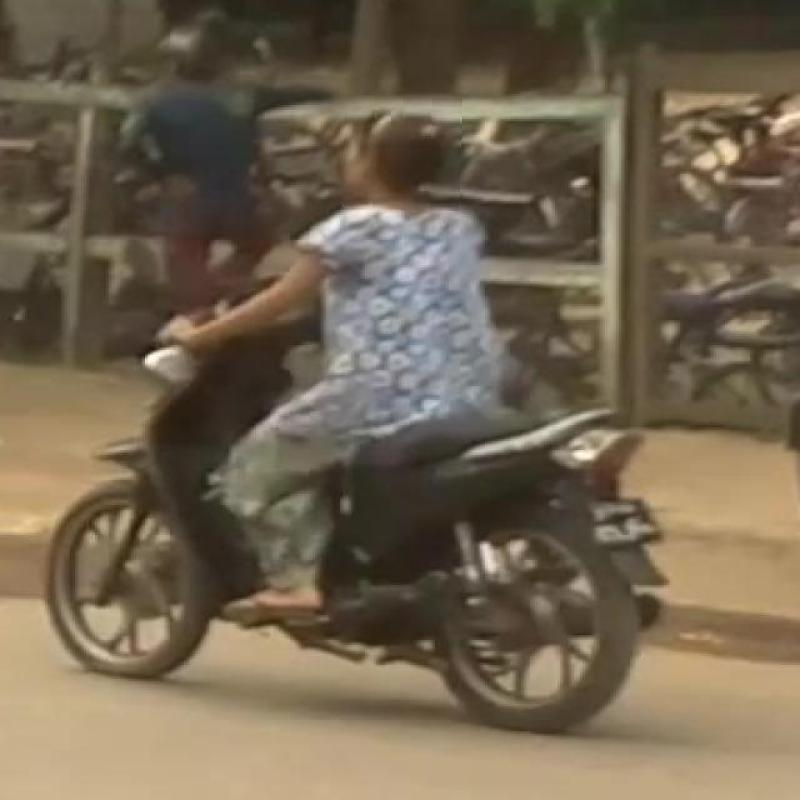nohelmet: (343, 95, 462, 210)
